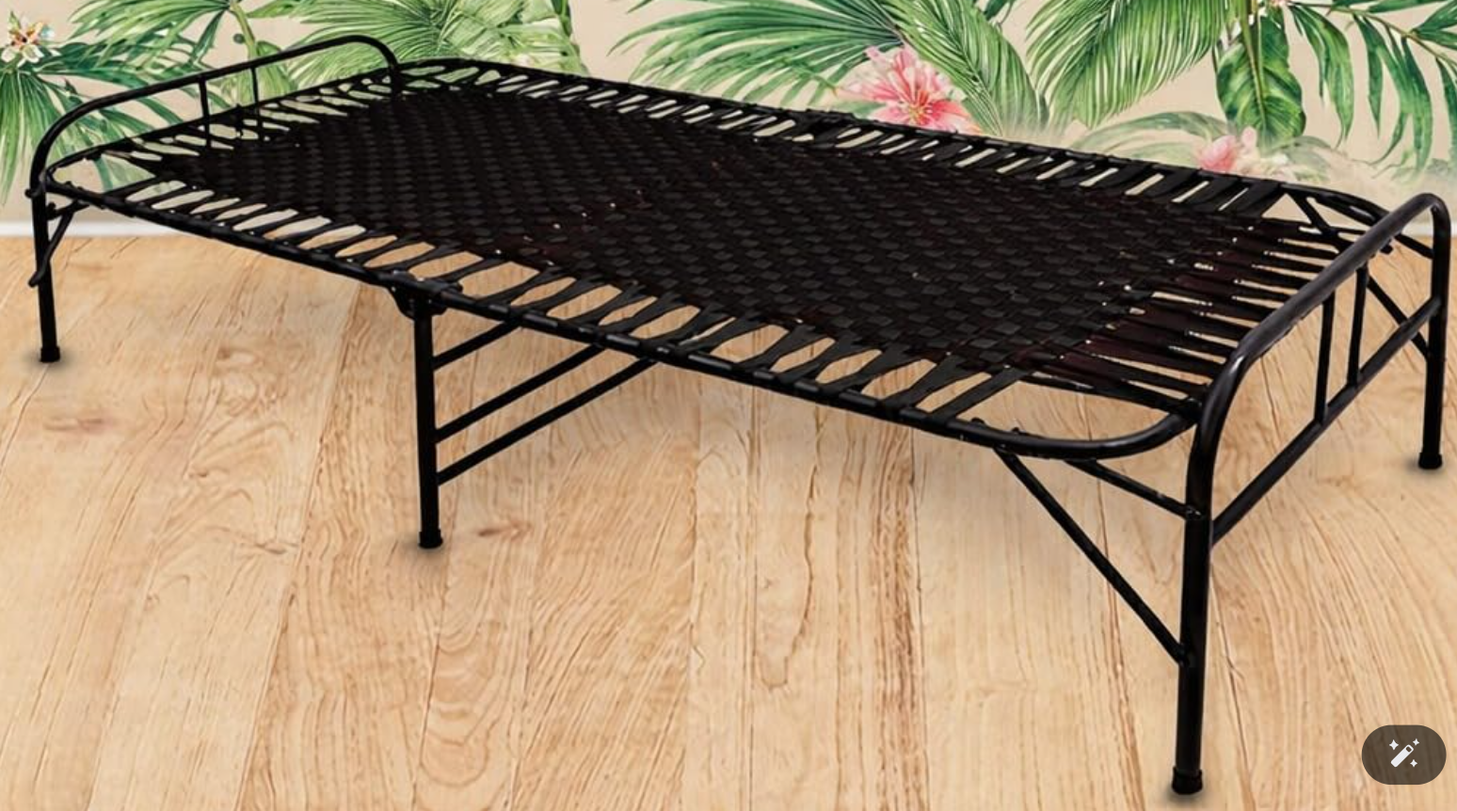cot: (22, 34, 1452, 772)
